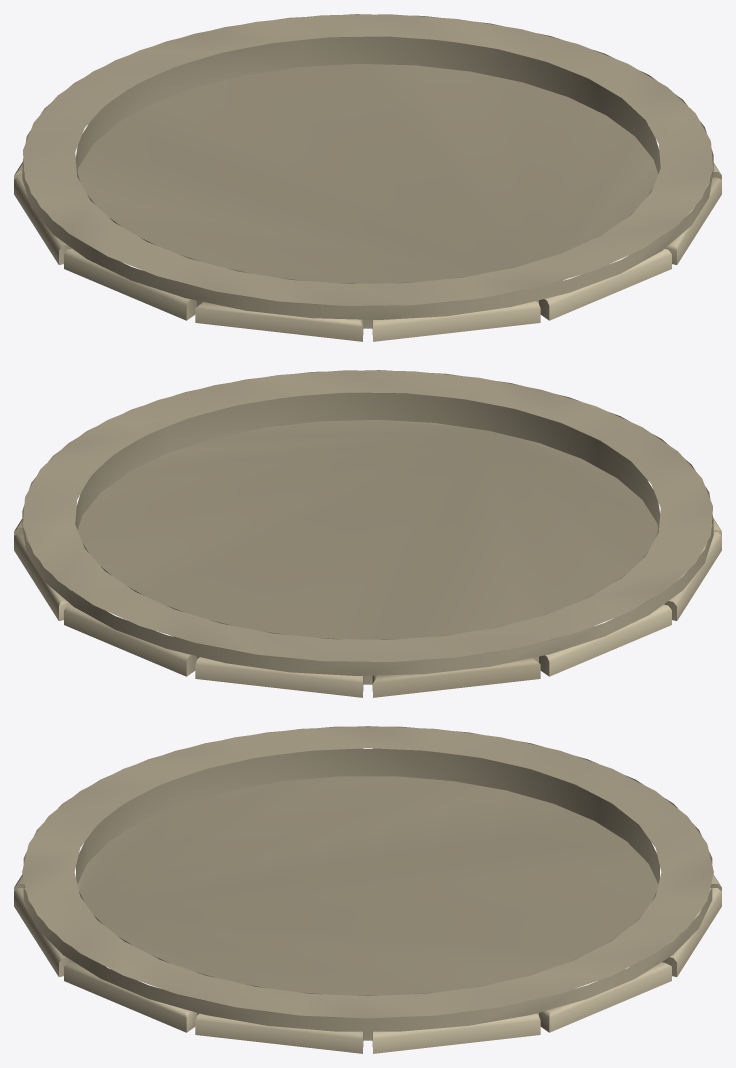
Rendered from geyser_launcher_drum.glb.
The picture shows the model from 3 angles, top to bottom: view 1: azimuth 30°, elevation 25°; view 2: azimuth 150°, elevation 25°; view 3: azimuth 270°, elevation 25°; orthographic projection.
Parts seen in each view (by area): view 1: Drum; view 2: Drum; view 3: Drum.
Part boxes in pixels (<box>): Drum: <box>14,14,721,341</box>; Drum: <box>14,370,721,697</box>; Drum: <box>14,726,721,1053</box>.
Size of the model in its own units: 7 by 0.35 by 7.
